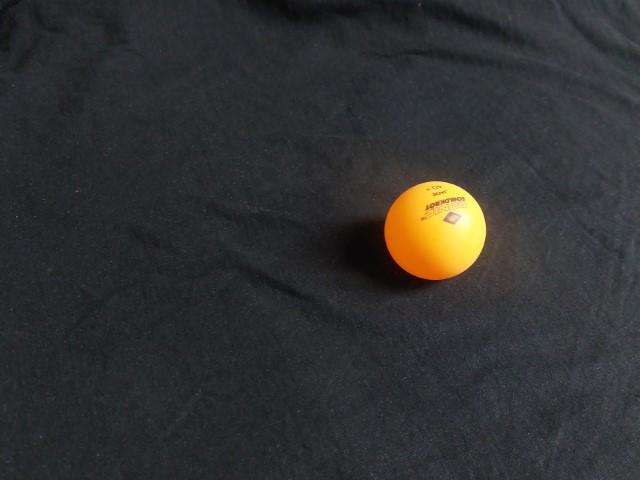oball: (379, 175, 495, 290)
